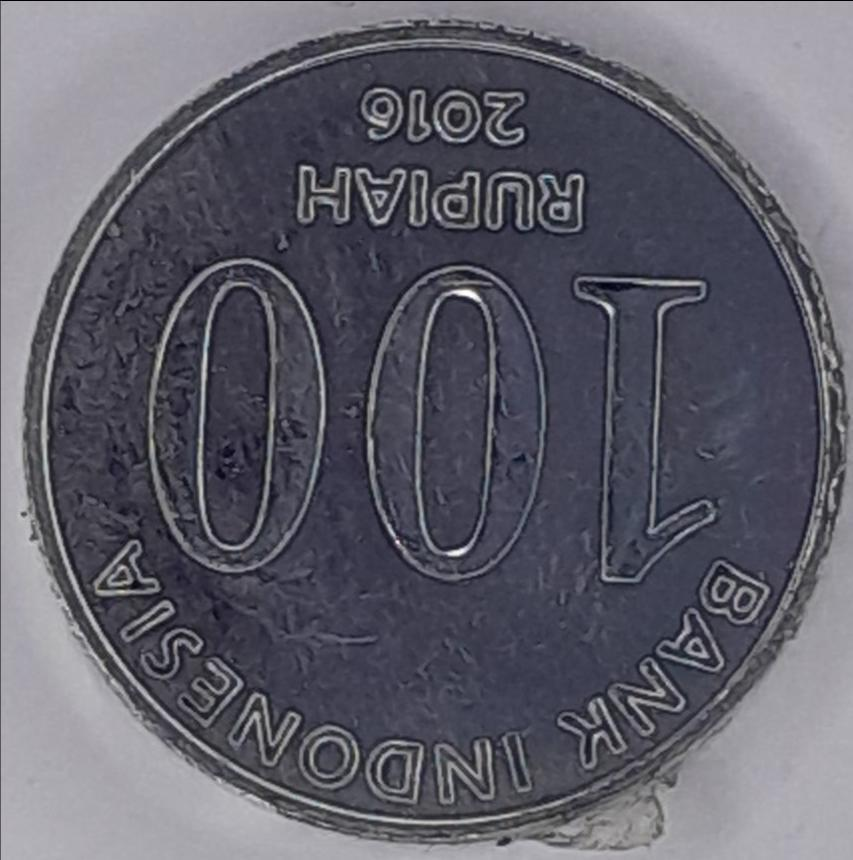coin_100_e2016: (17, 10, 852, 849)
